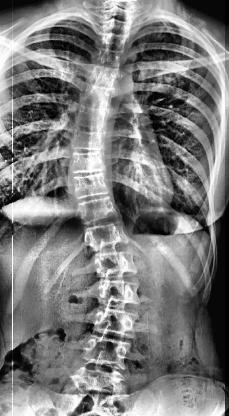Vertebrae: (90, 246, 139, 278), (82, 333, 130, 365), (89, 305, 136, 337), (74, 362, 124, 392), (95, 278, 143, 309), (83, 222, 131, 250), (78, 198, 122, 228), (72, 106, 119, 130), (70, 178, 116, 200), (70, 150, 112, 174), (69, 130, 111, 152), (85, 84, 121, 108), (92, 66, 128, 86), (98, 32, 134, 52), (96, 46, 128, 66), (99, 20, 136, 36)
